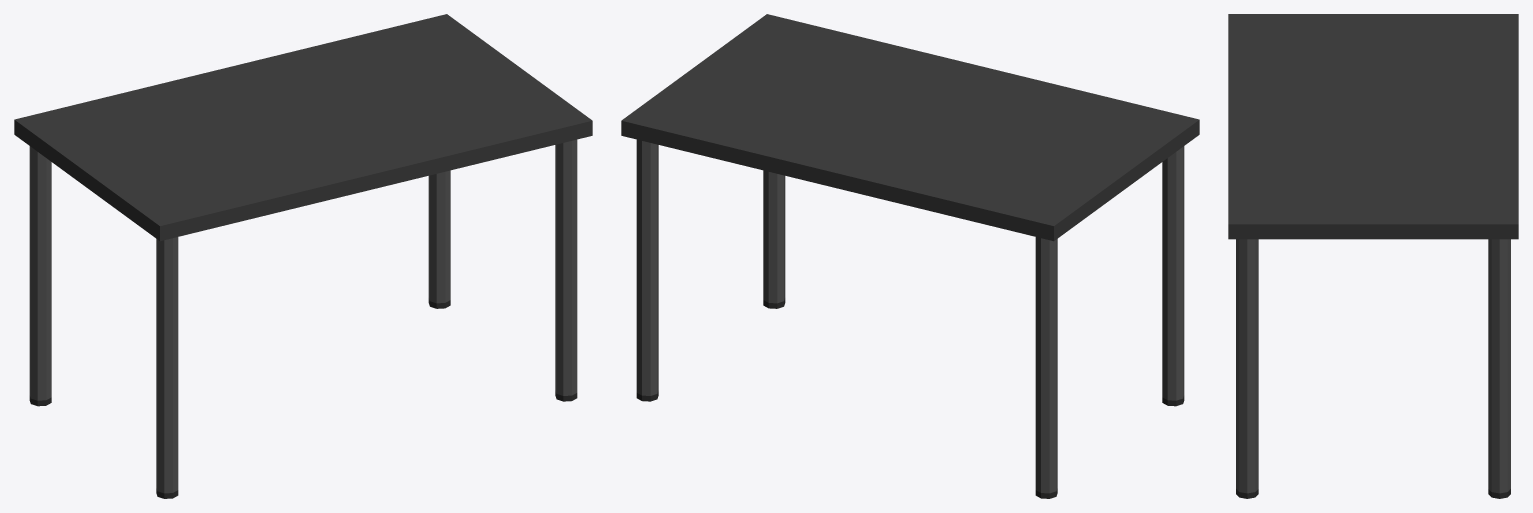
Rendered from PC_Table1_C3.fbx.
3 renders of one model, left to right at view 1: azimuth 30°, elevation 25°; view 2: azimuth 150°, elevation 25°; view 3: azimuth 270°, elevation 25°, orthographic.
Parts seen in each view (by area): view 1: PC_Table1_C3; view 2: PC_Table1_C3; view 3: PC_Table1_C3.
Boxes of the visible parts, left/top/right/bottom form: PC_Table1_C3: left=14, top=14, right=592, bottom=498; PC_Table1_C3: left=621, top=14, right=1199, bottom=498; PC_Table1_C3: left=1228, top=14, right=1518, bottom=498.
Bounding box in the file's own units: 120 × 74 × 70.
